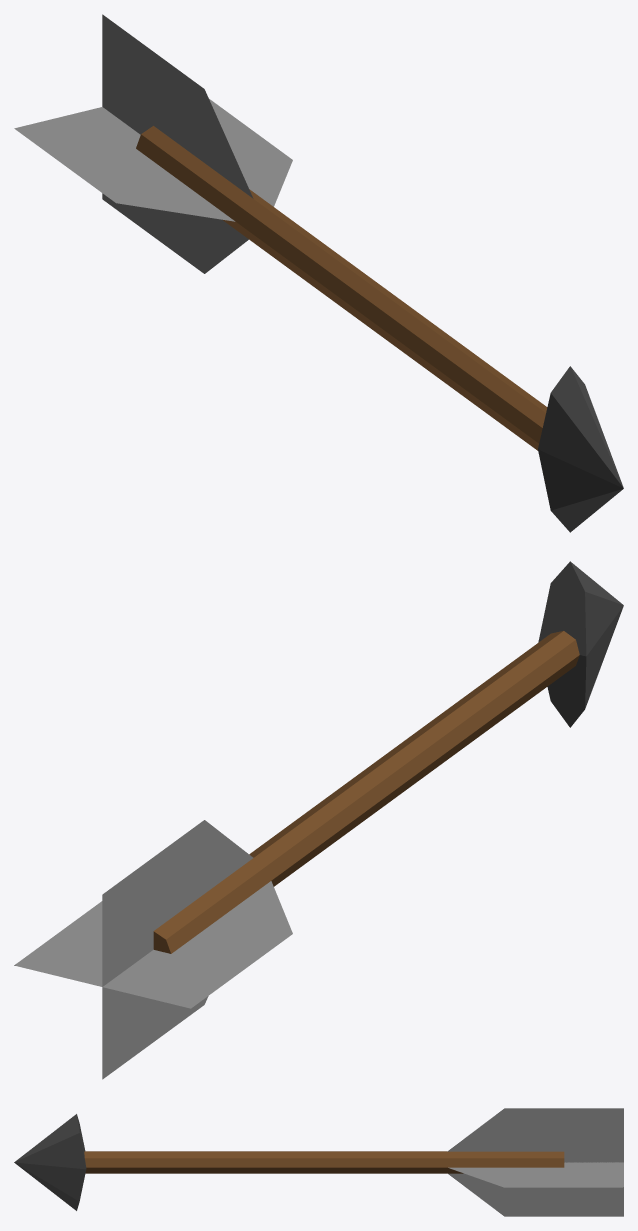
Rendered from arrow.obj.
3 views of the same model, one above another, from view 1: azimuth 30°, elevation 25°; view 2: azimuth 150°, elevation 25°; view 3: azimuth 270°, elevation 25° (orthographic). The views are drawn at different scales.
Parts seen in each view (by area): view 1: arrow; view 2: arrow; view 3: arrow.
Part boxes in pixels (x1,y1,x2,y2): arrow: (14, 14, 623, 532); arrow: (14, 561, 623, 1079); arrow: (14, 1108, 623, 1216).
Size of the model in its own units: 0.05 by 0.05 by 0.2553.
